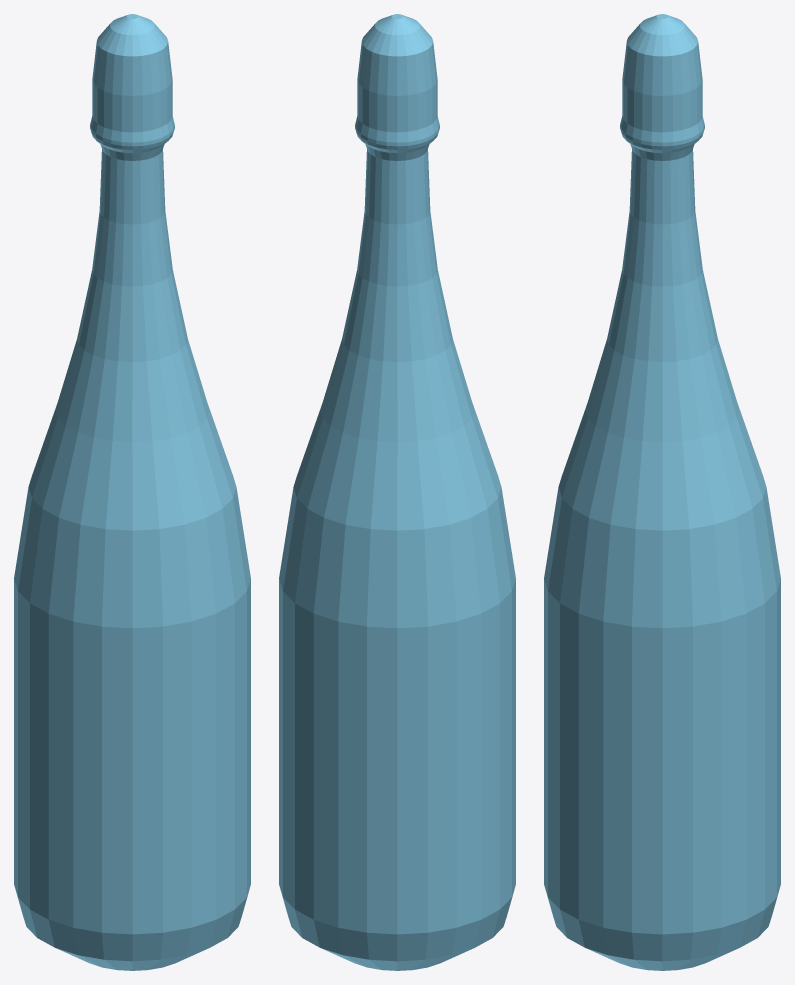
3 views of the same model, side by side, from view 1: azimuth 30°, elevation 25°; view 2: azimuth 150°, elevation 25°; view 3: azimuth 270°, elevation 25° (orthographic).
Bounding box in the file's own units: 0.2179 × 0.9513 × 0.2179.
